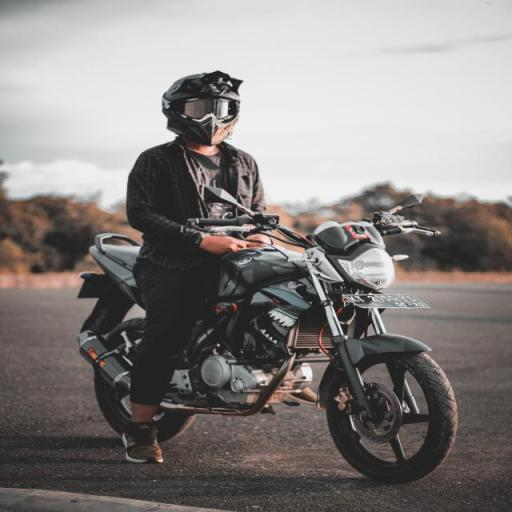Helmet: (162, 71, 242, 145)
Motor: (70, 216, 470, 496)
